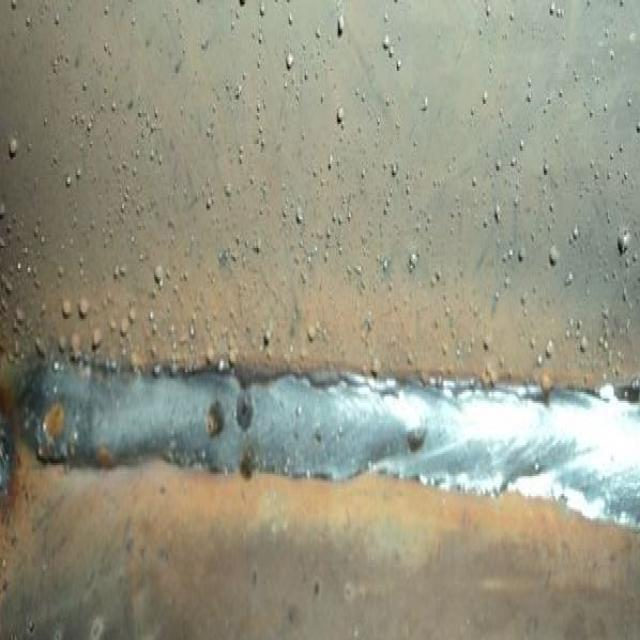Bad Weld: (21, 348, 639, 538)
Defect: (200, 392, 260, 483)
